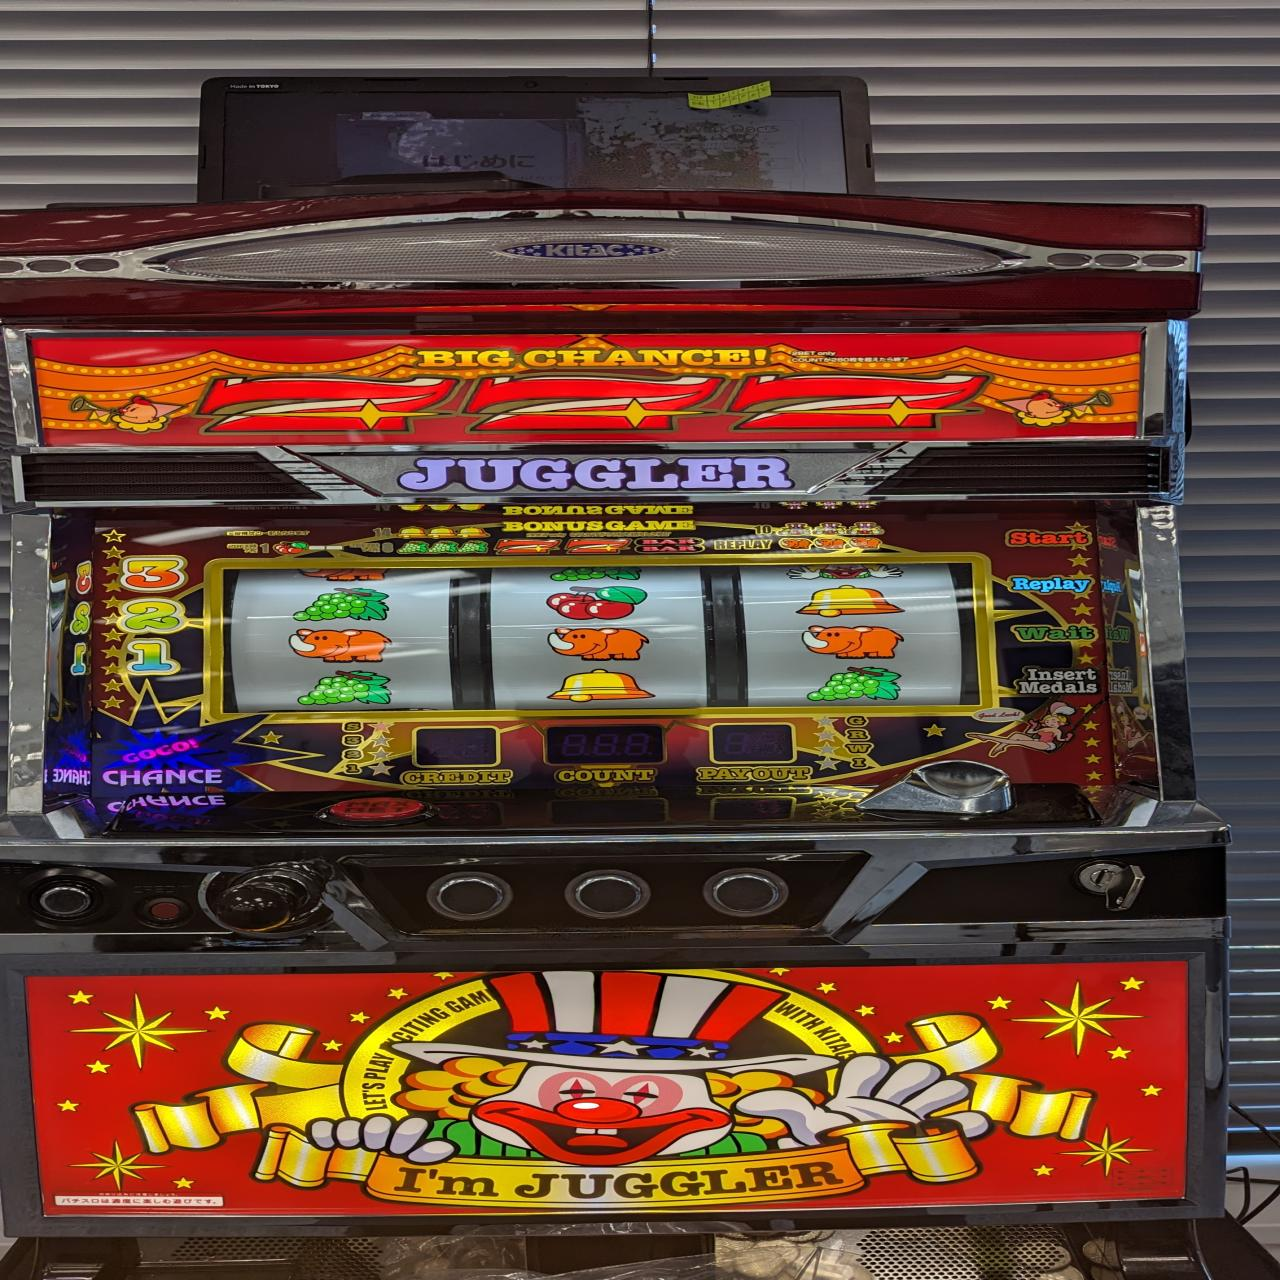8: (286, 627, 394, 662), (799, 626, 907, 660), (546, 627, 652, 661)
Display: (211, 560, 994, 714)
bell: (549, 668, 654, 703), (797, 585, 905, 618)
cherry: (544, 586, 648, 619)
grape: (288, 586, 393, 622), (295, 669, 396, 707), (808, 667, 901, 703)
